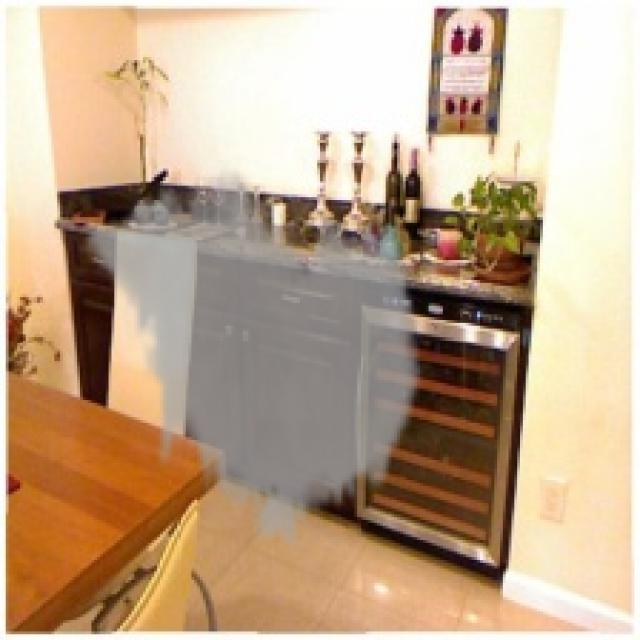smoke: (83, 157, 426, 554)
